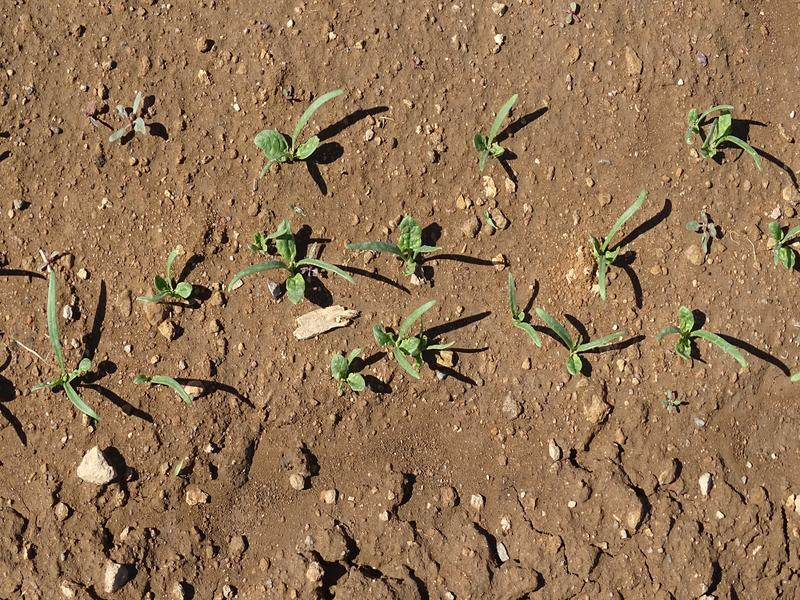Espinaca: (145, 219, 444, 299), (498, 213, 642, 375), (298, 303, 440, 397), (36, 276, 111, 416), (252, 85, 349, 169), (660, 309, 757, 378), (681, 104, 747, 164), (478, 99, 517, 173), (774, 218, 800, 256)
